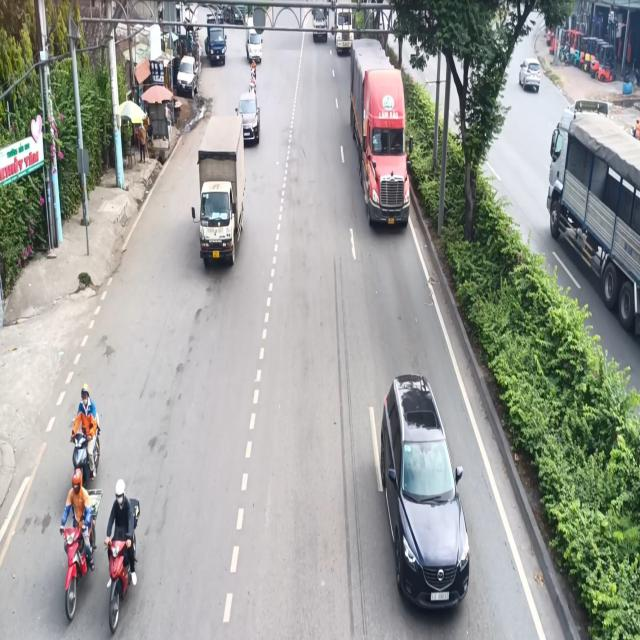car: (374, 367, 474, 616)
motor: (103, 472, 146, 640), (52, 471, 98, 609), (72, 378, 102, 488)
truck: (348, 37, 412, 234), (202, 106, 246, 272)
